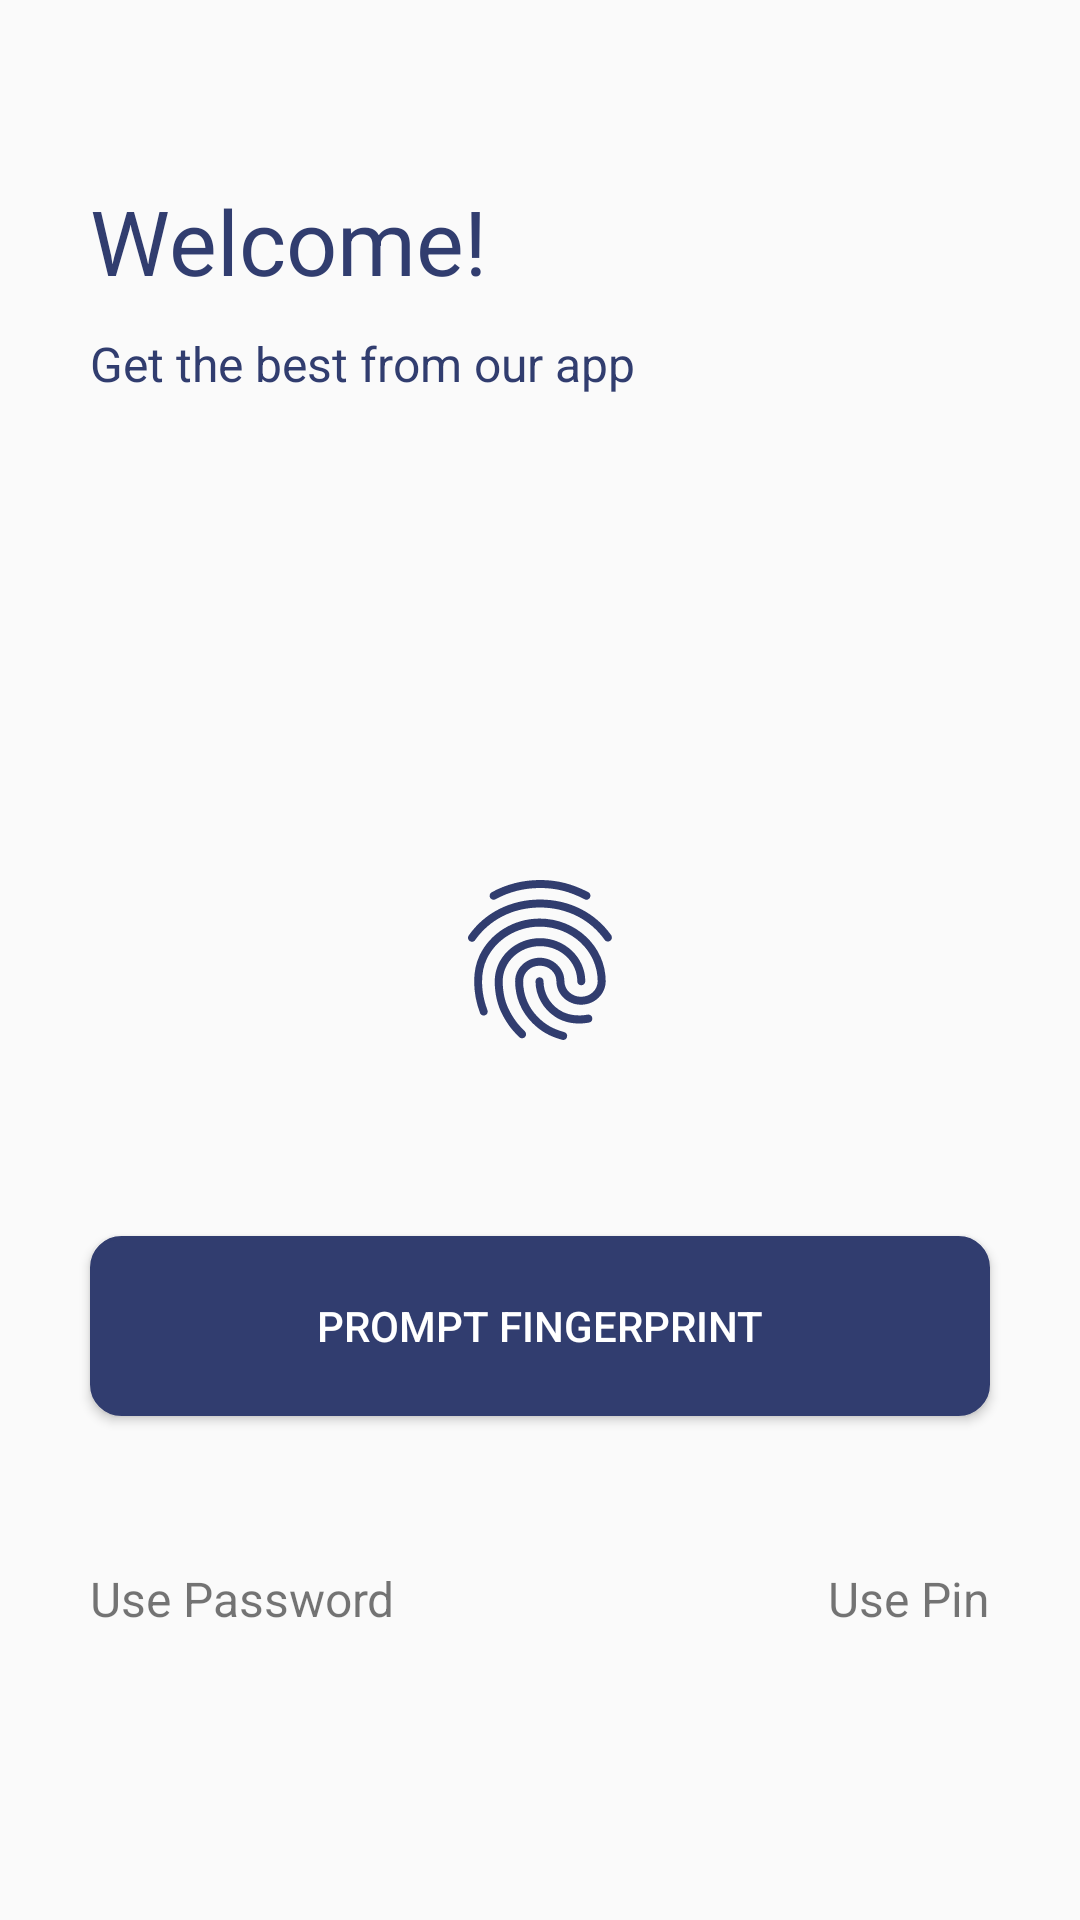

Screen size 1080px x 1920px. Icon name, then its box in pixels as region(x1, y1, x2, y2):
fingerprint: region(468, 880, 612, 1040)
